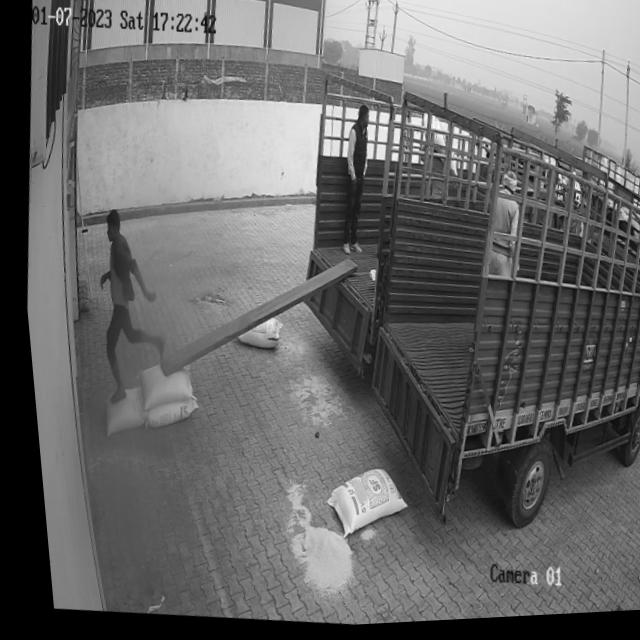sack: (311, 466, 402, 548), (127, 360, 188, 416), (93, 384, 141, 439), (137, 392, 192, 432), (228, 317, 277, 354)
